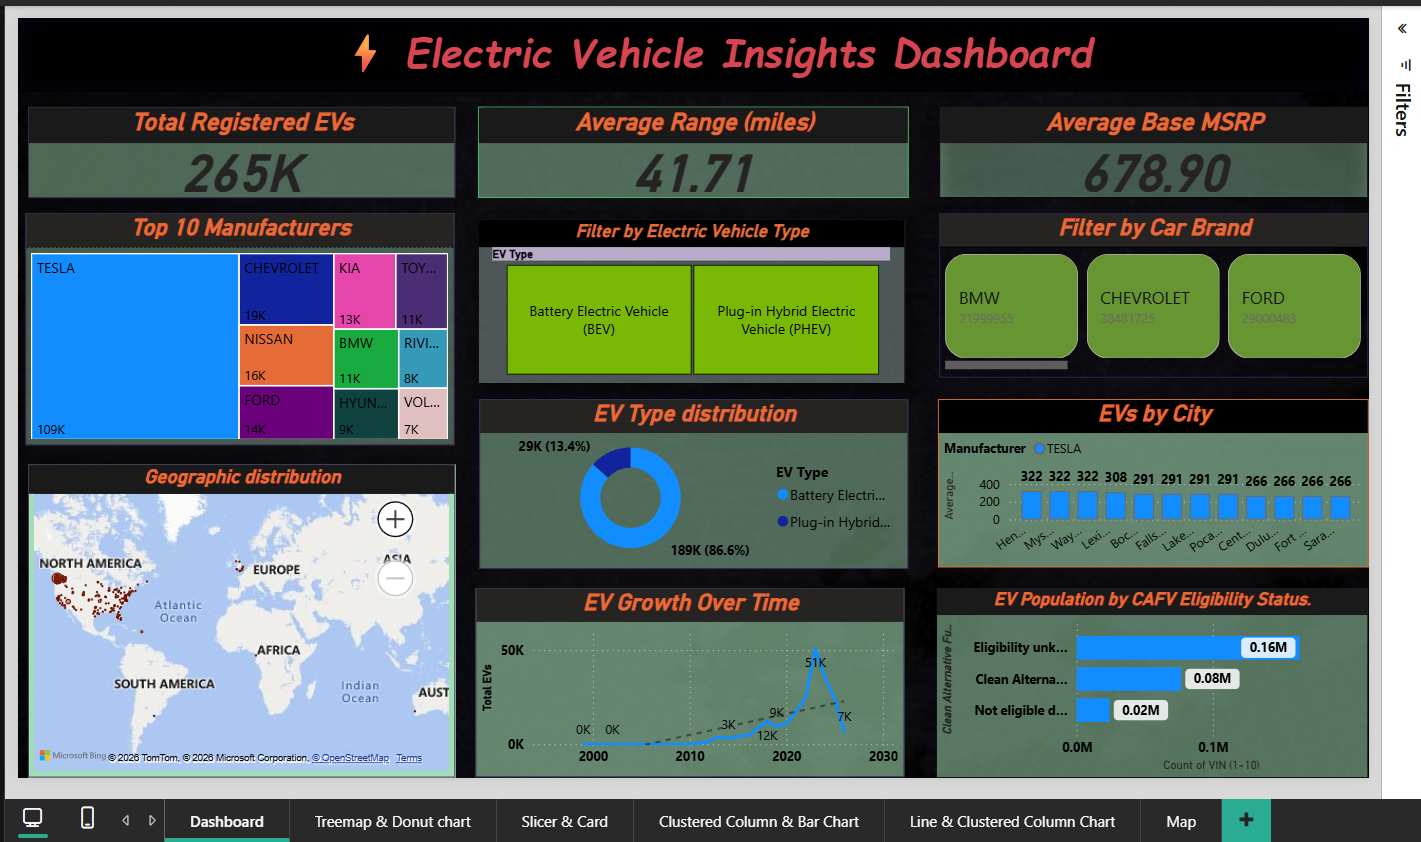

Layout of this report page (visuals, bound fields, positions):
{"tool":"powerbi","page":{"name":"Dashboard","canvas":[1280,720],"ordinal":0},"visuals":[{"type":"textbox","box":[0.9,-0.5,1280.2,69.2],"z":0},{"type":"card","title":"Total Registered EVs","fields":{"Values":["Electric_Vehicle_Population_Data.Total EVs"]},"box":[9.2,84.2,404.6,86],"z":1000},{"type":"card","title":"Average Range (miles)","fields":{"Values":["Electric_Vehicle_Population_Data.Average Range"]},"box":[435.7,84.2,408.2,86],"z":2000},{"type":"card","title":"Average Base MSRP","fields":{"Values":["Electric_Vehicle_Population_Data.Average Price"]},"box":[873.2,84.2,406.4,86],"z":3000},{"type":"treemap","title":"Top 10 Manufacturers","fields":{"Group":["Electric_Vehicle_Population_Data.Manufacturer"],"Values":["Electric_Vehicle_Population_Data.Total EVs"]},"box":[7.3,184.9,406.4,219.7],"z":4000},{"type":"lineChart","title":"EV Growth Over Time","fields":{"Category":["Electric_Vehicle_Population_Data.Year"],"Y":["Electric_Vehicle_Population_Data.Total EVs"]},"box":[433.9,540,406.4,179.4],"z":5000},{"type":"donutChart","title":"EV Type distribution","fields":{"Category":["Electric_Vehicle_Population_Data.EV Type"],"Y":["Electric_Vehicle_Population_Data.Total EVs"]},"box":[437.5,360.6,406.4,161.1],"z":6000},{"type":"map","title":"Geographic distribution","fields":{"Category":["Electric_Vehicle_Population_Data.County","Electric_Vehicle_Population_Data.Postal Code"],"Size":["Electric_Vehicle_Population_Data.Total EVs"]},"box":[9.2,422.9,404.6,296.6],"z":7000},{"type":"advancedSlicerVisual","title":"Filter by Car Brand","fields":{"Label":["Sum(Electric_Vehicle_Population_Data.Year)"],"Values":["Electric_Vehicle_Population_Data.Manufacturer"]},"box":[873.2,184.9,406.4,155.6],"z":8000},{"type":"clusteredColumnChart","title":"EVs by City","fields":{"Category":["Electric_Vehicle_Population_Data.City"],"Series":["Electric_Vehicle_Population_Data.Manufacturer"],"Y":["Electric_Vehicle_Population_Data.Average Range"]},"box":[871.4,360.6,408.2,159.3],"z":9000},{"type":"slicer","title":"Filter by Electric Vehicle Type","fields":{"Values":["Electric_Vehicle_Population_Data.EV Type"]},"box":[435.7,190.4,404.6,155.6],"z":10000},{"type":"clusteredBarChart","title":"EV Population by CAFV Eligibility Status.","fields":{"Category":["Electric_Vehicle_Population_Data.Clean Alternative Fuel Vehicle (CAFV) Eligibility"],"Y":["CountNonNull(Electric_Vehicle_Population_Data.VIN (1-10))"]},"box":[871,540,408,179],"z":11000}]}

Visuals, with their boxes on the page's 1280x720 design canvas (x1, y1, x2, y2). These are canvas units, not pixel positions in the 1421x842 screenshot, which may show the page scaled, cropped or inside an application window:
textbox: (x1=1, y1=0, x2=1281, y2=69)
"Total Registered EVs" card: (x1=9, y1=84, x2=414, y2=170)
"Average Range (miles)" card: (x1=436, y1=84, x2=844, y2=170)
"Average Base MSRP" card: (x1=873, y1=84, x2=1280, y2=170)
"Top 10 Manufacturers" treemap: (x1=7, y1=185, x2=414, y2=405)
"EV Growth Over Time" lineChart: (x1=434, y1=540, x2=840, y2=719)
"EV Type distribution" donutChart: (x1=438, y1=361, x2=844, y2=522)
"Geographic distribution" map: (x1=9, y1=423, x2=414, y2=720)
"Filter by Car Brand" advancedSlicerVisual: (x1=873, y1=185, x2=1280, y2=340)
"EVs by City" clusteredColumnChart: (x1=871, y1=361, x2=1280, y2=520)
"Filter by Electric Vehicle Type" slicer: (x1=436, y1=190, x2=840, y2=346)
"EV Population by CAFV Eligibility Status." clusteredBarChart: (x1=871, y1=540, x2=1279, y2=719)
